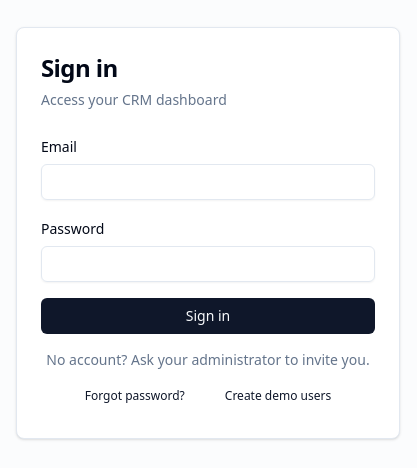
Test case: Login form › shows a validation error for an invalid email
Step 1. Type "not-an-email" into the field labelled "Email" → x=208, y=182, box [41,164,375,200]
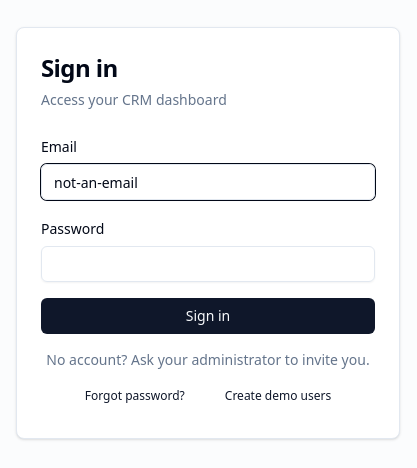
Step 2. Type "secret" into the password field labelled "Password" → x=208, y=264, box [41,246,375,282]
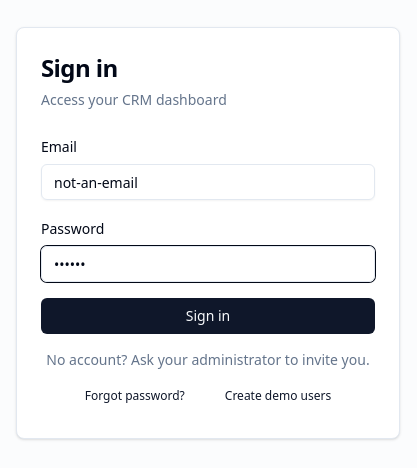
Step 3. Click the button "Sign in" → x=208, y=316, box [41,298,375,334]
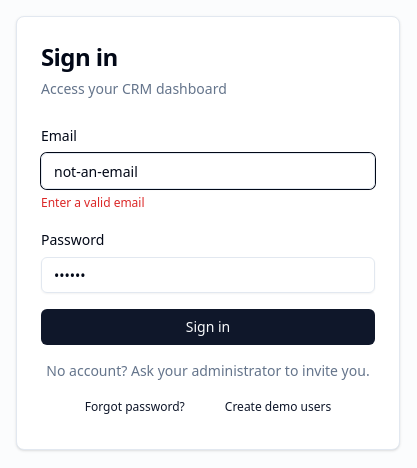
Result: the text "Enter a valid email" is shown at [41,194,145,211]
